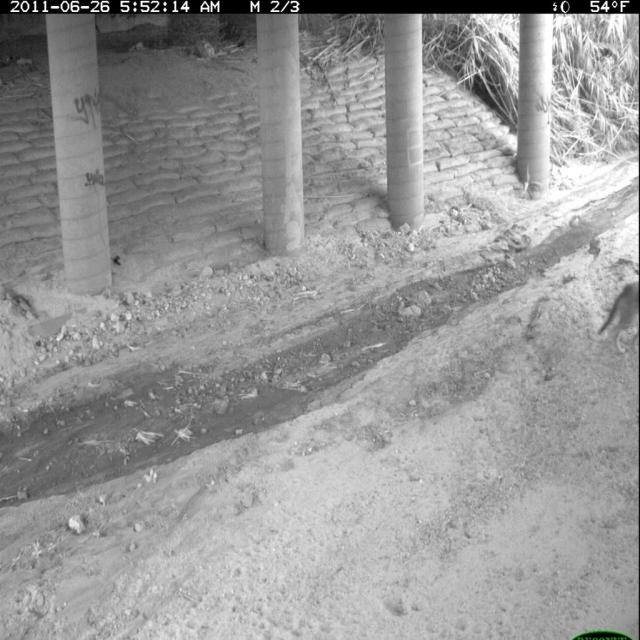coyote: (595, 270, 639, 363)
